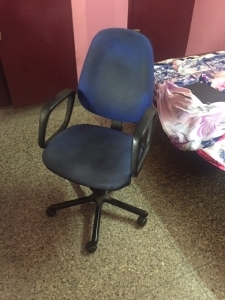chair: (38, 28, 155, 253)
